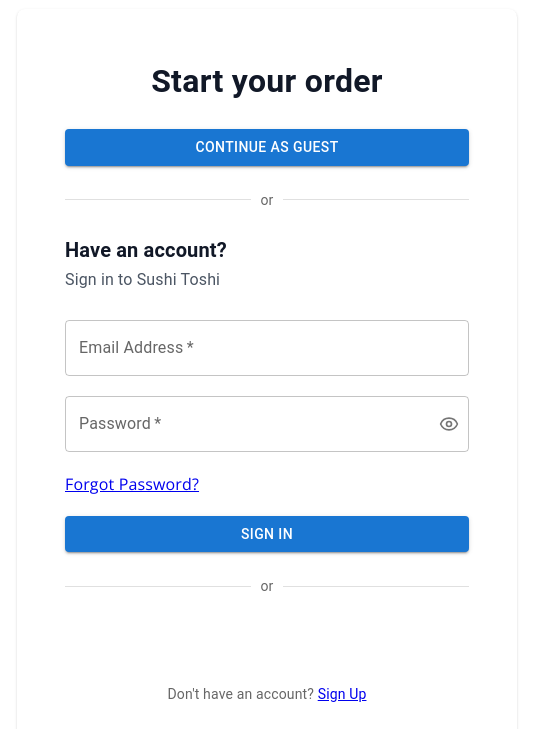
it: LoginForm › Guest Login › asks guests to rescan the QR code when guest sign-in is rejected
Click the button "Continue as Guest".
click(267, 147)  # box [65,129,469,166]
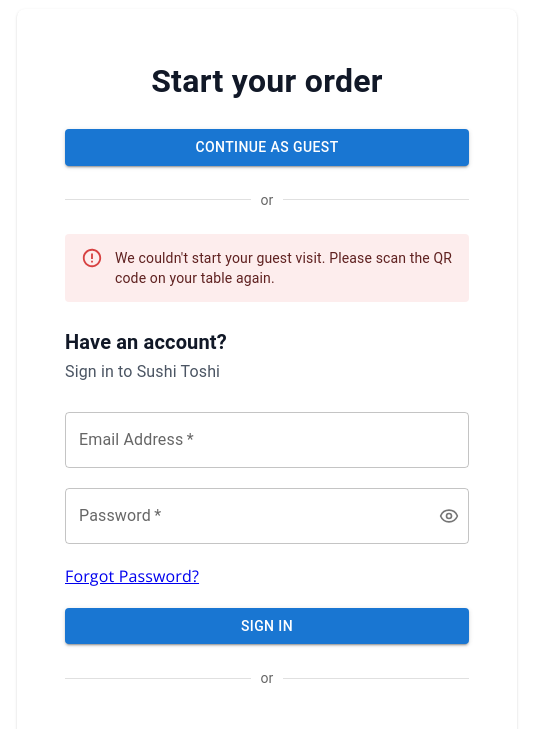
Expected: the text "Please scan the QR code on your table again" is shown, [115,250,452,286]
